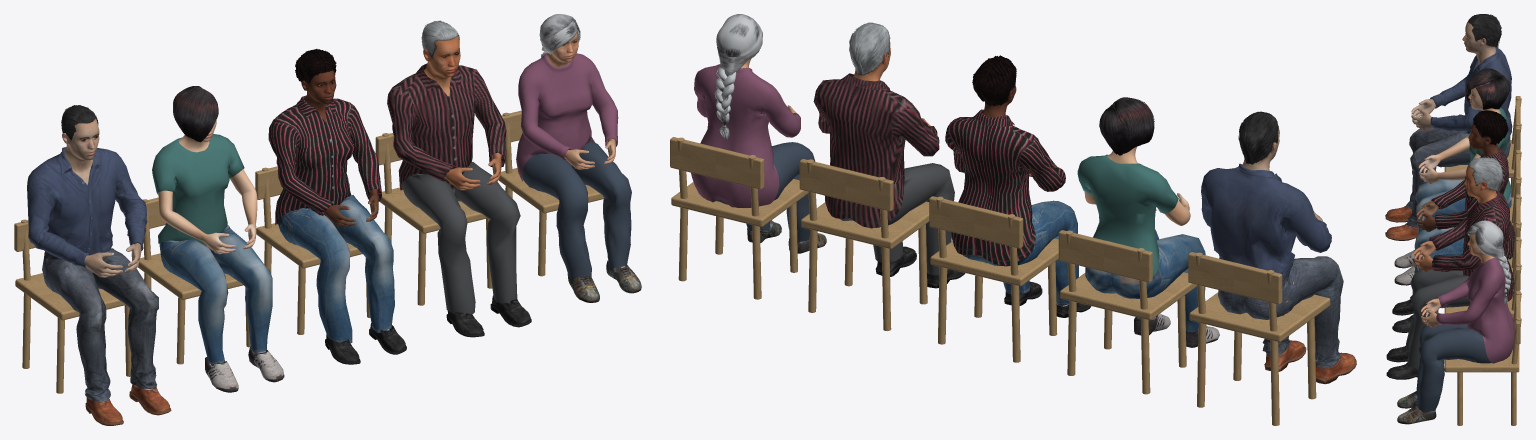
The model's file is audience-row.glb.
3 views of the same model, side by side, from view 1: azimuth 30°, elevation 25°; view 2: azimuth 150°, elevation 25°; view 3: azimuth 270°, elevation 25° (orthographic). The views are drawn at different scales.
Visible parts, largest first — view 1: male_casualsuit03.001, male_casualsuit01, male_casualsuit03, male_casualsuit02, female_casualsuit01, Riley | anatomical body, Avery | anatomical body, Rowan | anatomical body, bob01, Morgan | anatomical body, Child chair | rounded seat, shoes01 (+17 smaller); view 2: male_casualsuit01, male_casualsuit03.001, male_casualsuit03, female_casualsuit01, male_casualsuit02, braid01, Child chair | curved back panel.003, Child chair | curved back panel.001, Child chair | curved back panel.002, Child chair | curved back panel, Child chair | curved back panel.004, Child chair | rounded seat (+25 smaller); view 3: male_casualsuit02, male_casualsuit03.001, male_casualsuit01, male_casualsuit03, female_casualsuit01, Riley | anatomical body, braid01, bob01, Avery | anatomical body, Rowan | anatomical body, Child chair | rounded seat.004, Morgan | anatomical body (+19 smaller).
Boxes of the visible parts, x1,y1,x2,y2 form: male_casualsuit03.001: [387, 63, 520, 314]; male_casualsuit01: [27, 147, 158, 402]; male_casualsuit03: [268, 95, 394, 342]; male_casualsuit02: [516, 52, 631, 278]; female_casualsuit01: [152, 134, 272, 363]; Riley | anatomical body: [158, 119, 257, 254]; Avery | anatomical body: [62, 119, 141, 277]; Rowan | anatomical body: [423, 35, 501, 190]; bob01: [173, 86, 218, 142]; Morgan | anatomical body: [301, 70, 378, 226]; Child chair | rounded seat: [15, 273, 125, 320]; shoes01: [85, 384, 171, 425]; male_casualsuit01: [1201, 163, 1343, 367]; male_casualsuit03.001: [813, 73, 954, 274]; male_casualsuit03: [945, 109, 1078, 305]; female_casualsuit01: [1077, 154, 1205, 332]; male_casualsuit02: [691, 64, 815, 241]; braid01: [714, 14, 762, 141]; Child chair | curved back panel.003: [799, 159, 893, 211]; Child chair | curved back panel.001: [1058, 230, 1152, 282]; Child chair | curved back panel.002: [929, 196, 1023, 248]; Child chair | curved back panel: [1188, 252, 1282, 304]; Child chair | curved back panel.004: [670, 137, 764, 189]; Child chair | rounded seat: [1189, 292, 1330, 342]; male_casualsuit02: [1416, 257, 1514, 412]; male_casualsuit03.001: [1406, 191, 1514, 369]; male_casualsuit01: [1406, 47, 1512, 227]; male_casualsuit03: [1411, 146, 1514, 317]; female_casualsuit01: [1415, 107, 1511, 232]; Riley | anatomical body: [1418, 87, 1500, 184]; braid01: [1467, 220, 1511, 305]; bob01: [1466, 68, 1510, 109]; Avery | anatomical body: [1411, 21, 1495, 130]; Rowan | anatomical body: [1413, 165, 1496, 271]; Child chair | rounded seat.004: [1444, 344, 1519, 372]; Morgan | anatomical body: [1416, 124, 1499, 231].
Bounding box in the file's own units: 3.16 × 1.38 × 0.8048.
Materials: 48 (47 with a texture image).
